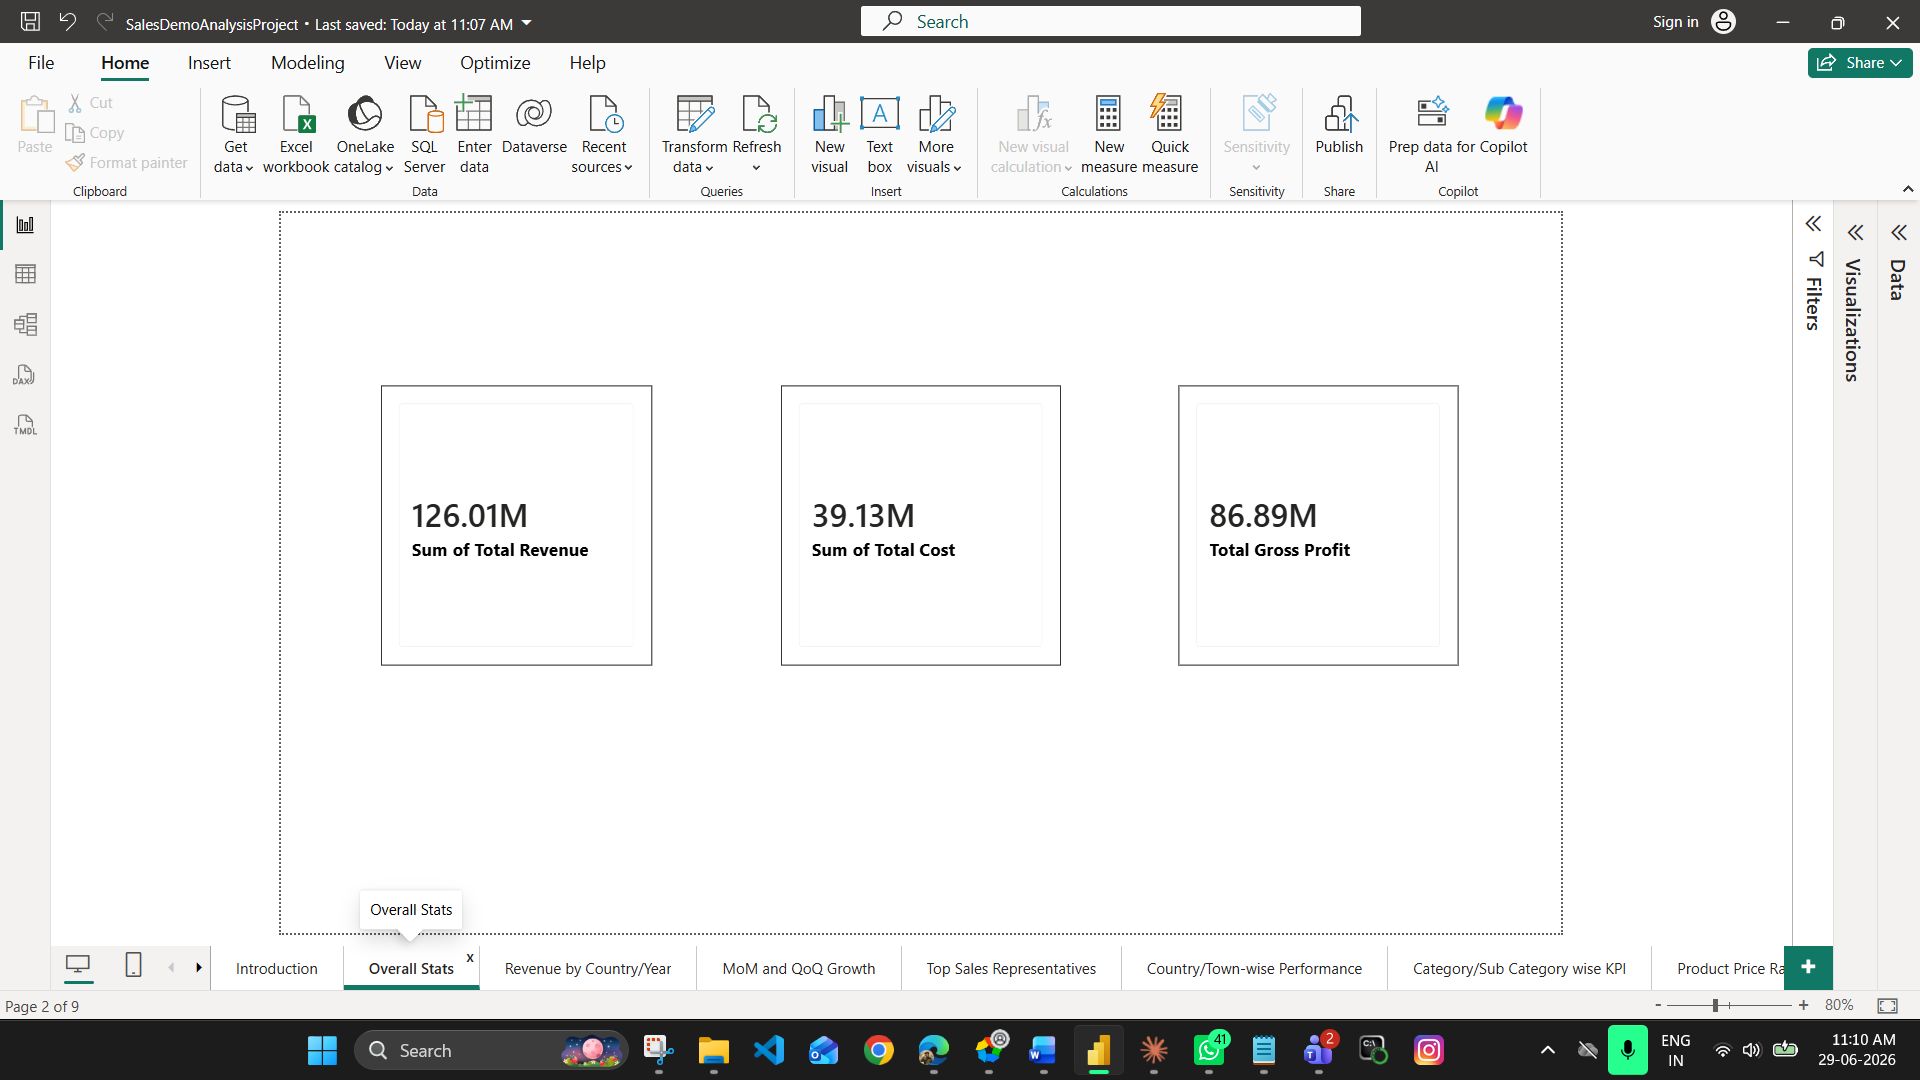

The page's visual inventory and layout, read from the dashboard file:
{"tool":"powerbi","page":{"name":"Overall Stats","canvas":[1280,720],"ordinal":1},"visuals":[{"type":"cardVisual","fields":{"Data":["Sum(FactSales.Total Revenue)"]},"box":[100,172.9,271.4,280],"z":0},{"type":"cardVisual","fields":{"Data":["Sum(FactSales.Total Cost)"]},"box":[500,172.9,280,280],"z":1000},{"type":"cardVisual","fields":{"Data":["FactSales.Total Gross Profit"]},"box":[897.1,172.9,280,280],"z":2000}]}

Visuals, with their boxes on the page's 1280x720 design canvas (x1, y1, x2, y2). These are canvas units, not pixel positions in the 1920x1080 screenshot, which may show the page scaled, cropped or inside an application window:
cardVisual - Sum(FactSales.Total Revenue): [100,173,371,453]
cardVisual - Sum(FactSales.Total Cost): [500,173,780,453]
cardVisual - FactSales.Total Gross Profit: [897,173,1177,453]
